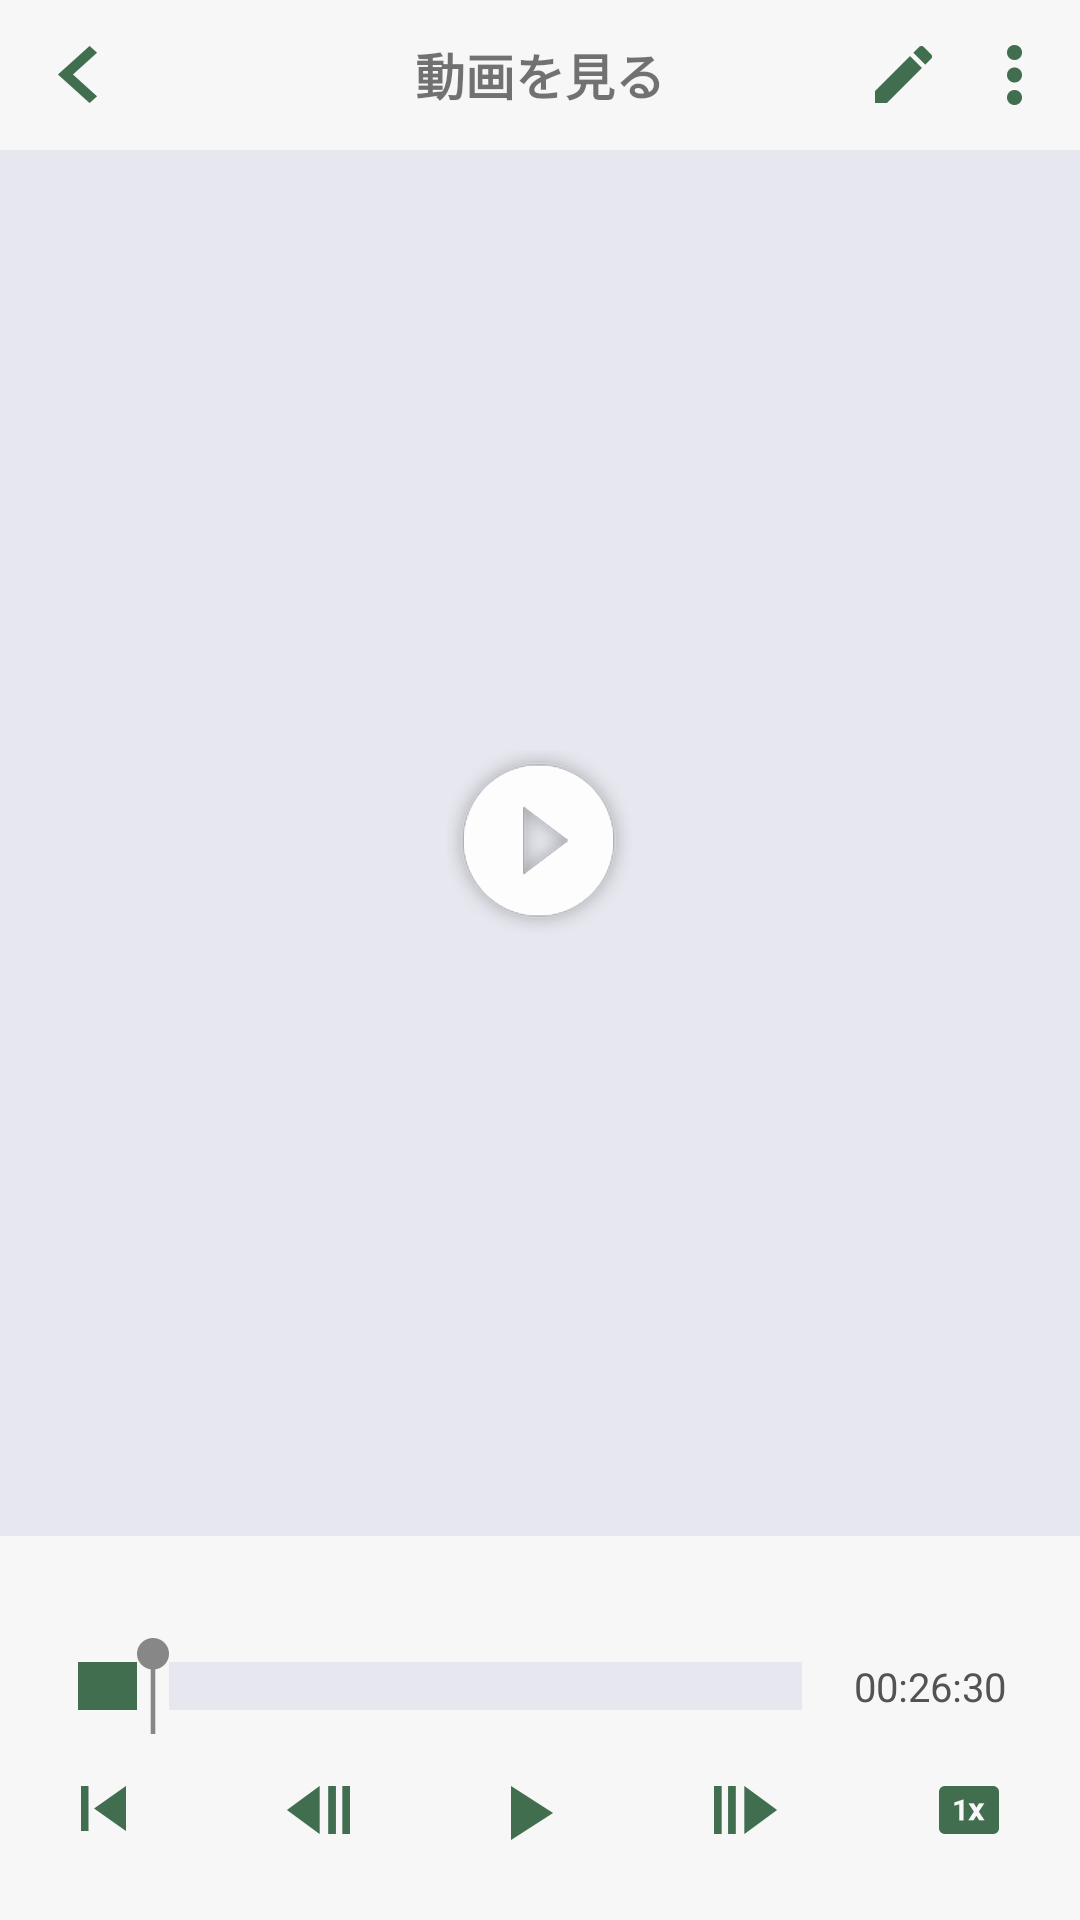

Screen size 1080 x 1920. Icon name, then its box in pixels as BBox(x1, y1, x2, y2):
back gr: BBox(58, 46, 97, 103)
framebk gr: BBox(287, 1786, 350, 1834)
framego gr: BBox(714, 1786, 777, 1834)
pen gr: BBox(875, 46, 932, 103)
play: BBox(452, 754, 625, 927)
play gr: BBox(511, 1786, 553, 1840)
skip gr: BBox(81, 1786, 126, 1831)
